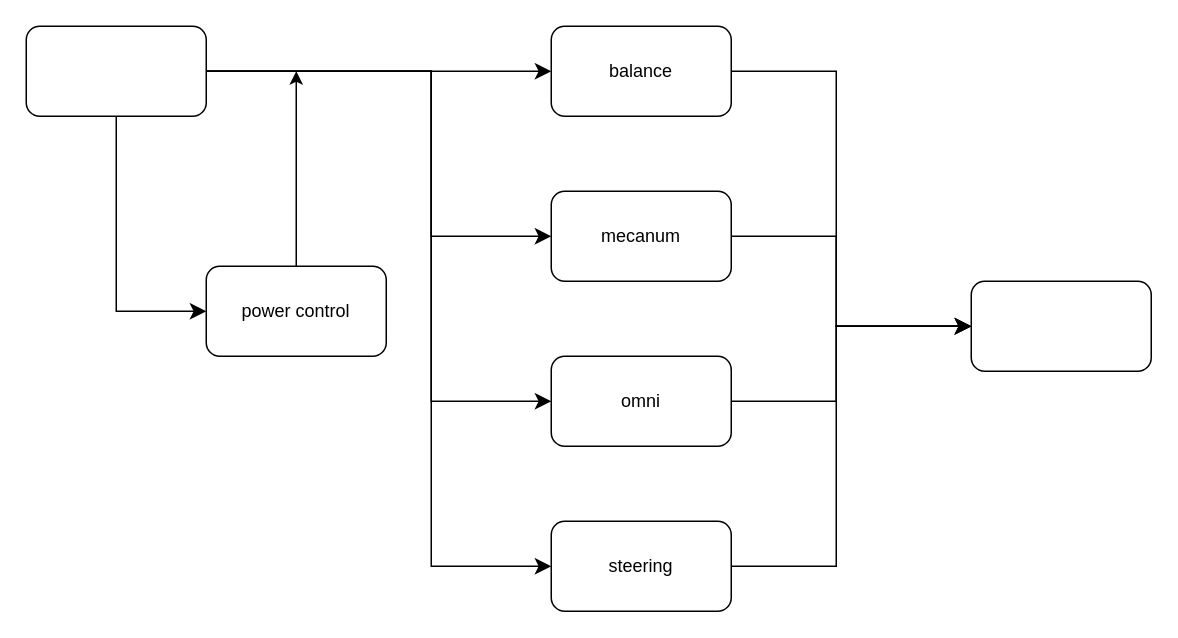
Some shapes in this 1178 by 638 pixel diagram are drawn without their labels. Each missing label, with the centre of its shape:
chassis: (115,70)
task: (1060,325)
